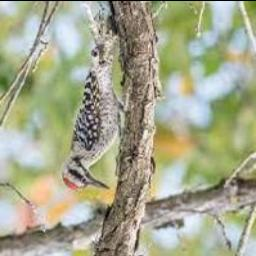Woodpecker: (62, 1, 123, 191)
